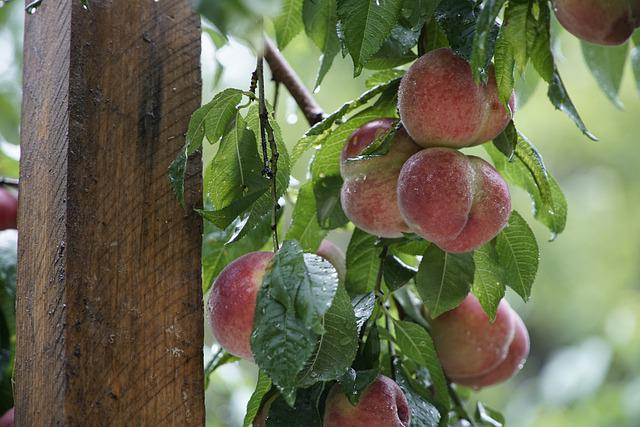peach: (398, 145, 511, 256), (421, 288, 539, 391), (397, 46, 516, 148), (340, 119, 408, 238), (205, 251, 264, 365)
